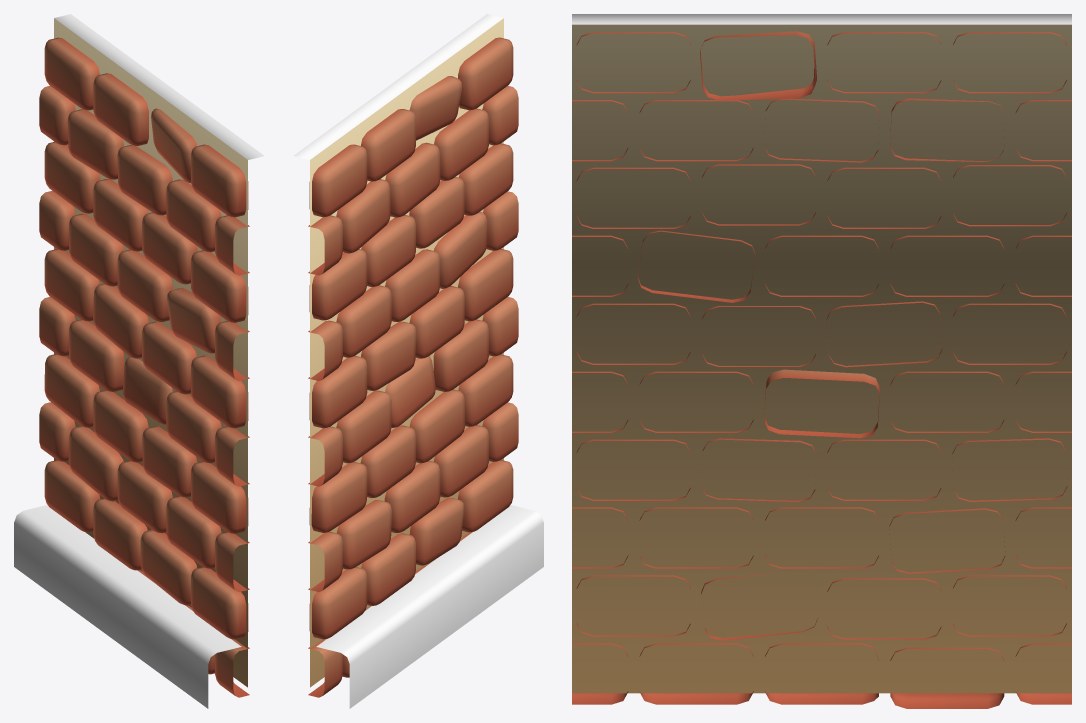
File: BrickWallOuter_M.fbx
3 views of the same model, side by side, from view 1: azimuth 30°, elevation 25°; view 2: azimuth 150°, elevation 25°; view 3: azimuth 270°, elevation 25° (orthographic). The views are drawn at different scales.
Visible parts, largest first — view 1: BrickWall; view 2: BrickWall; view 3: BrickWall.
Boxes of the visible parts, left/top/right/bottom form: BrickWall: left=14, top=14, right=264, bottom=708; BrickWall: left=293, top=14, right=543, bottom=708; BrickWall: left=572, top=14, right=1071, bottom=708.
Size of the model in its own units: 2 by 3.07 by 0.3375.
